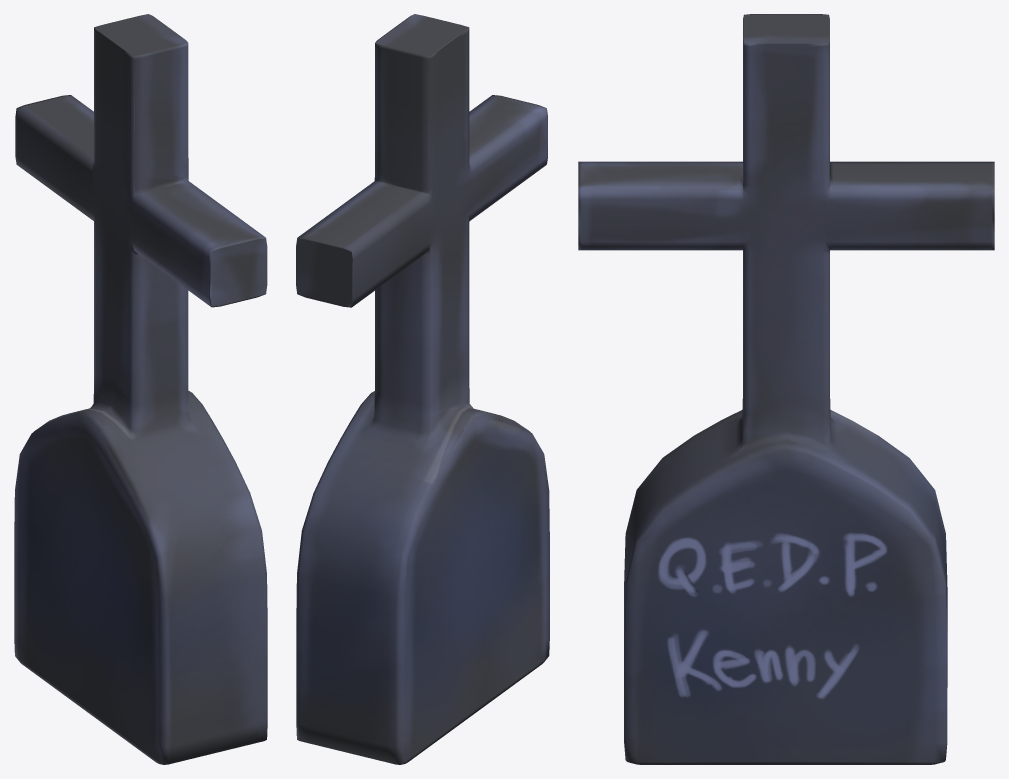
The model's file is grave 2.fbx.
The picture shows the model from 3 angles, left to right: view 1: azimuth 30°, elevation 25°; view 2: azimuth 150°, elevation 25°; view 3: azimuth 270°, elevation 25°; orthographic projection. The views are drawn at different scales.
Parts seen in each view (by area): view 1: lapida 1.001; view 2: lapida 1.001; view 3: lapida 1.001.
Part boxes in pixels (x1=…): lapida 1.001: x1=14, y1=14, x2=267, y2=764; lapida 1.001: x1=296, y1=14, x2=549, y2=764; lapida 1.001: x1=578, y1=14, x2=994, y2=764.
Size of the model in its own units: 79.44 by 484 by 257.
1 material, 1 textured.
